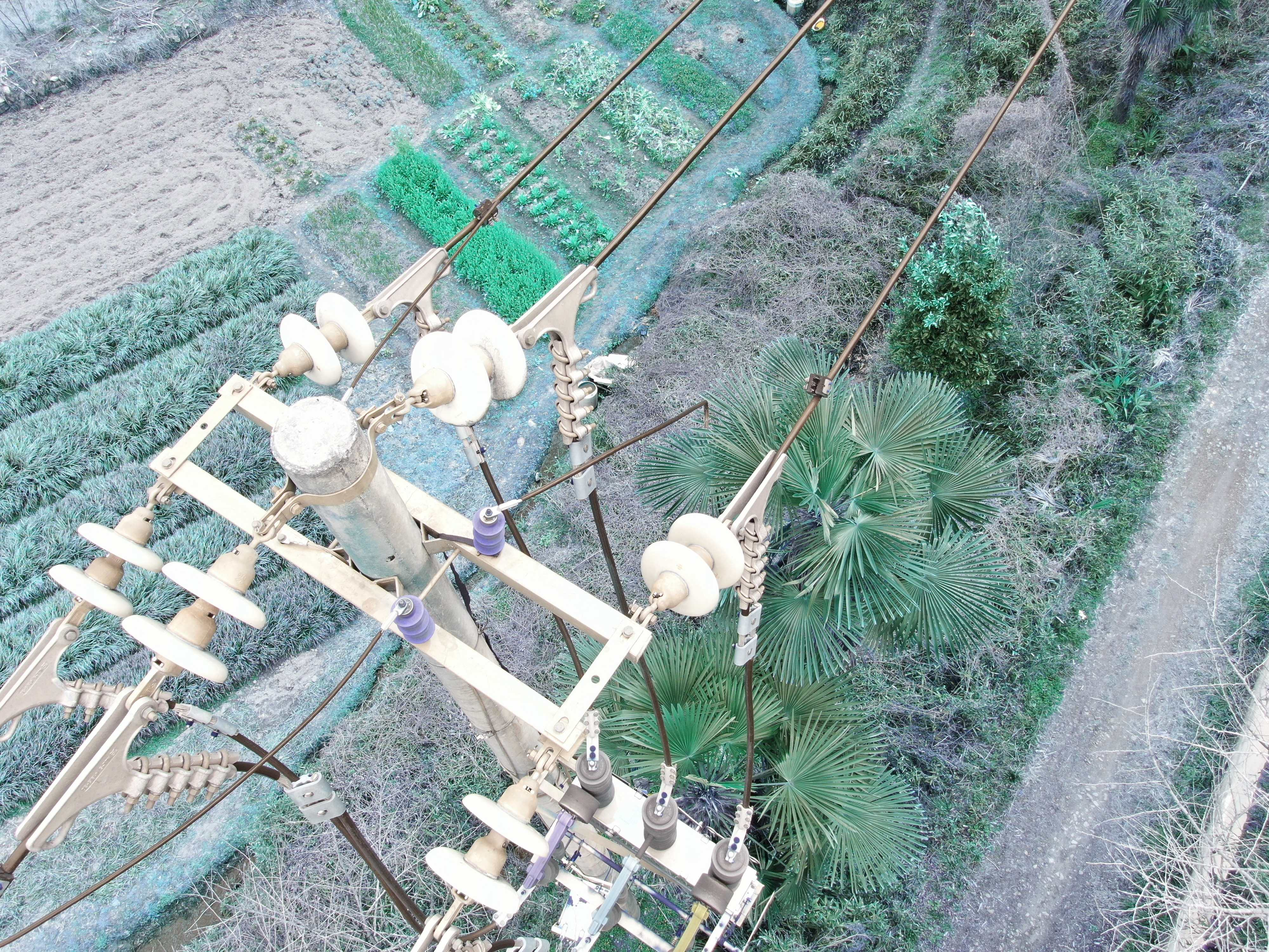severe_soiling_no_discharge_whole: (398, 306, 531, 435)
